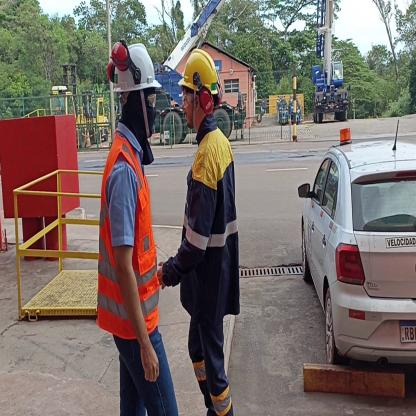Balaclava: (118, 88, 160, 143)
C_eletrica: (178, 131, 245, 314)
Capacete: (106, 37, 161, 88), (178, 46, 223, 90)
colete: (97, 128, 162, 335)
